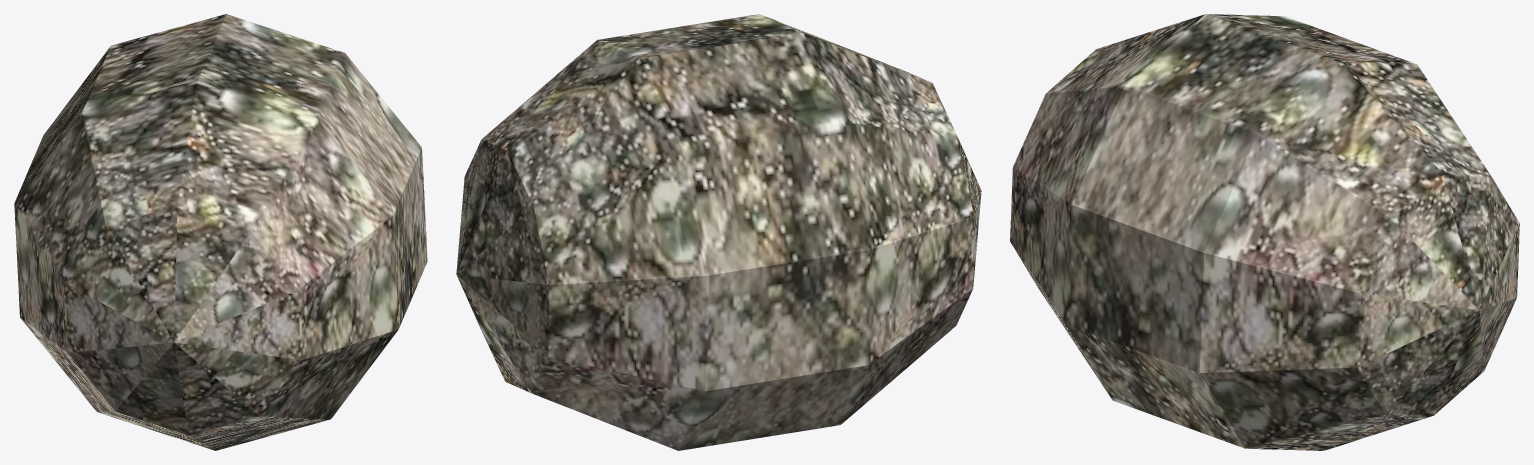
File: ITAT_CRAWLERQUEEN.glb
3 renders of one model, left to right at view 1: azimuth 30°, elevation 25°; view 2: azimuth 150°, elevation 25°; view 3: azimuth 270°, elevation 25°, orthographic. The views are drawn at different scales.
Visible parts, largest first — view 1: ITAT_CRAWLERQUEEN; view 2: ITAT_CRAWLERQUEEN; view 3: ITAT_CRAWLERQUEEN.
Part boxes in pixels (left/top/right/bottom): ITAT_CRAWLERQUEEN: left=14, top=14, right=427, bottom=450; ITAT_CRAWLERQUEEN: left=456, top=14, right=981, bottom=450; ITAT_CRAWLERQUEEN: left=1010, top=14, right=1519, bottom=450.
Size of the model in its own units: 0.6258 by 0.5472 by 0.6582.
1 material, 1 textured.
